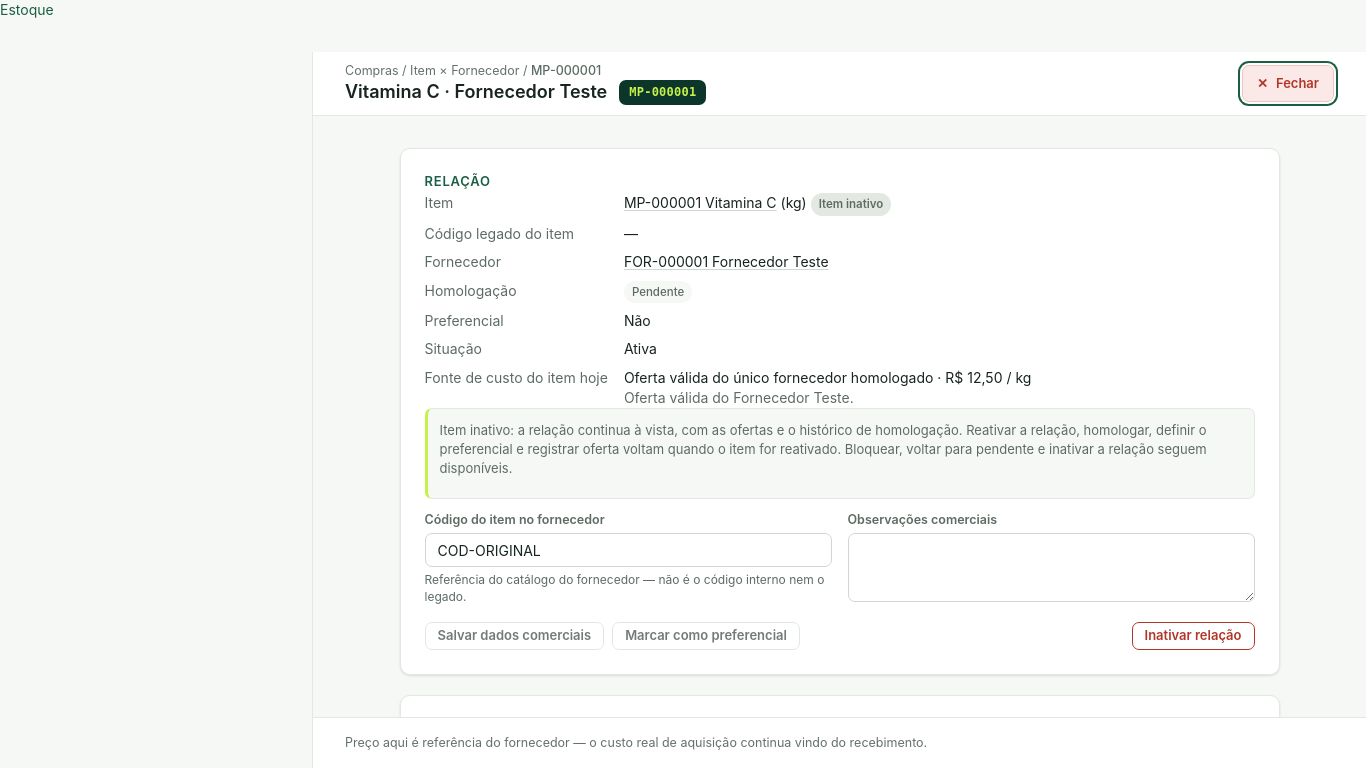
Scenario: detalhe de Item × Fornecedor — pendência por bloco › dado comercial alterado pergunta
Expected: the heading "Vitamina C · Fornecedor Teste" is shown, [345,81,607,104]
Replace the text in the field with id "detail-supplier-item-code" with "COD-NOVO": [628, 550] box [424,533,832,567]
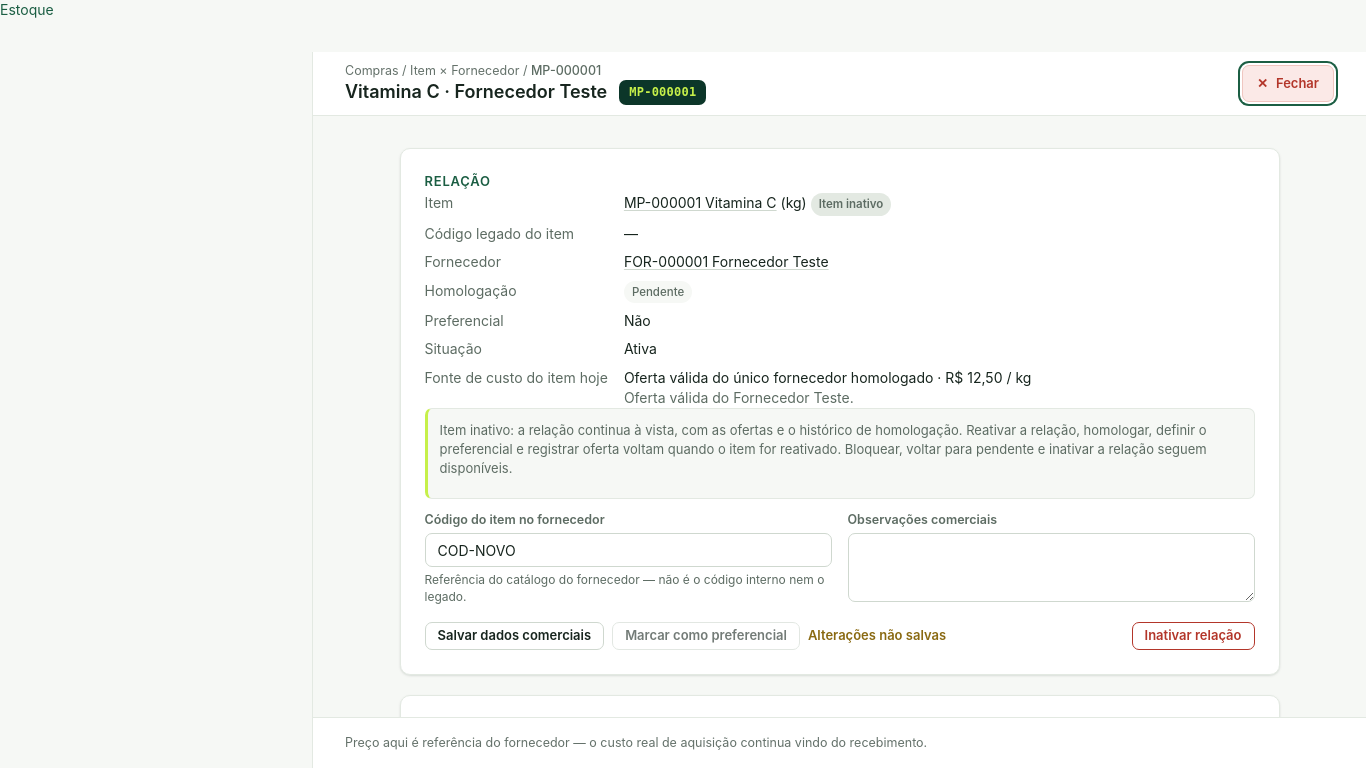
Click the link "Estoque": [27, 10] box [0,1,54,18]
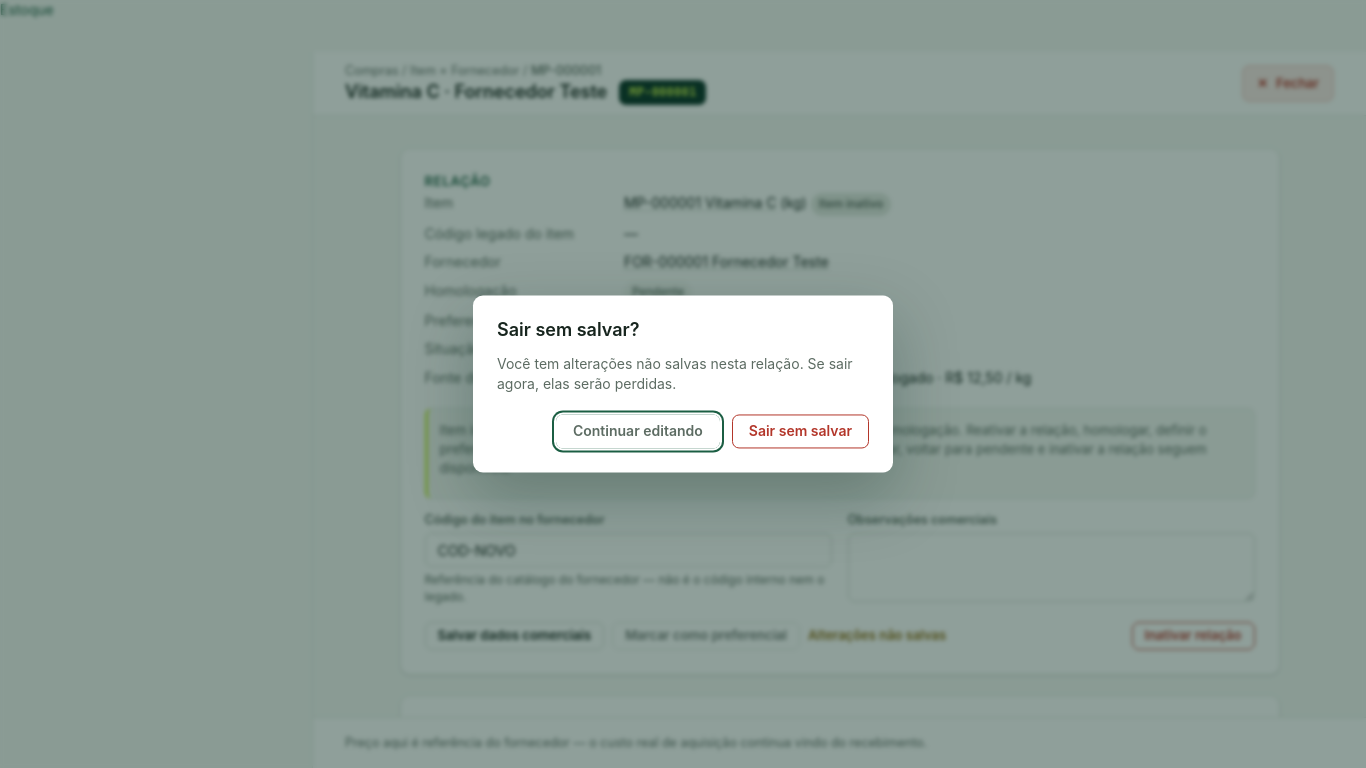
Now the heading "Sair sem salvar?" is shown, box [497,320,640,340]
Now the text "alterações não salvas nesta relação" is shown, box [497,354,869,395]
